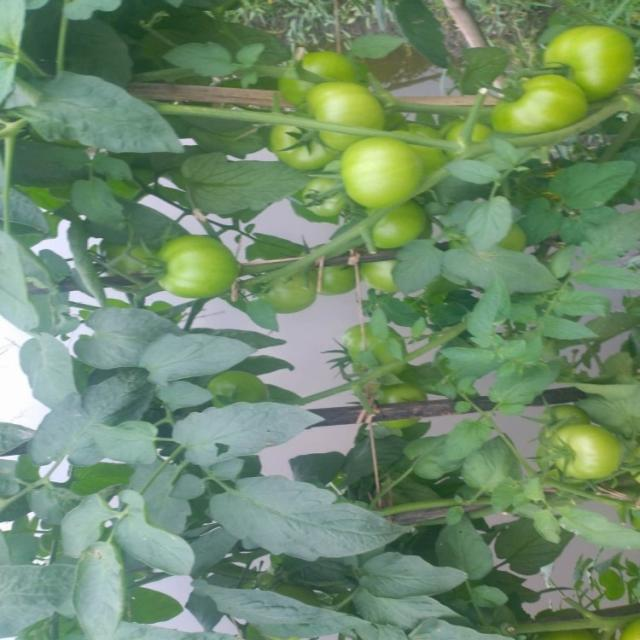tomato: (540, 22, 631, 97), (488, 77, 594, 137), (342, 128, 411, 201), (151, 234, 234, 293), (337, 326, 422, 377), (305, 80, 372, 144), (549, 425, 618, 478), (289, 53, 347, 102), (273, 122, 331, 171), (410, 121, 479, 162), (257, 265, 315, 312), (363, 198, 425, 241), (206, 370, 268, 409), (295, 176, 343, 218), (539, 401, 584, 438), (375, 382, 426, 413), (359, 256, 396, 298), (320, 256, 356, 295)
